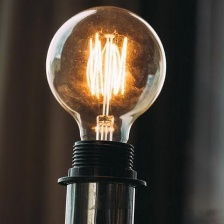light_bulb: (38, 1, 171, 168)
